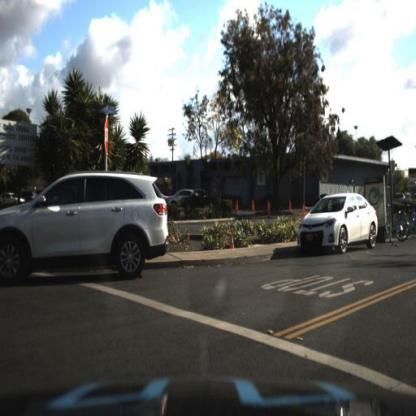car: (1, 170, 171, 282), (295, 195, 378, 252), (181, 183, 221, 214), (180, 189, 218, 213), (166, 186, 200, 209)
